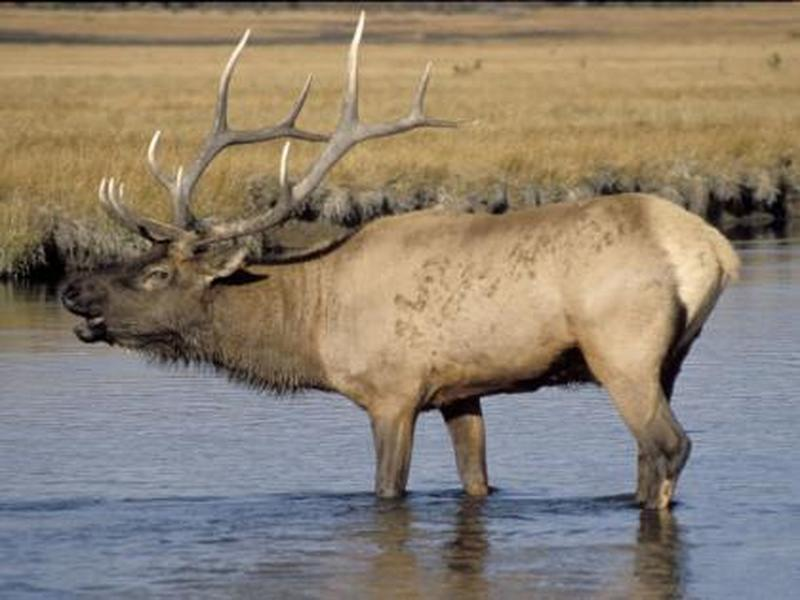elk: (61, 54, 747, 529)
